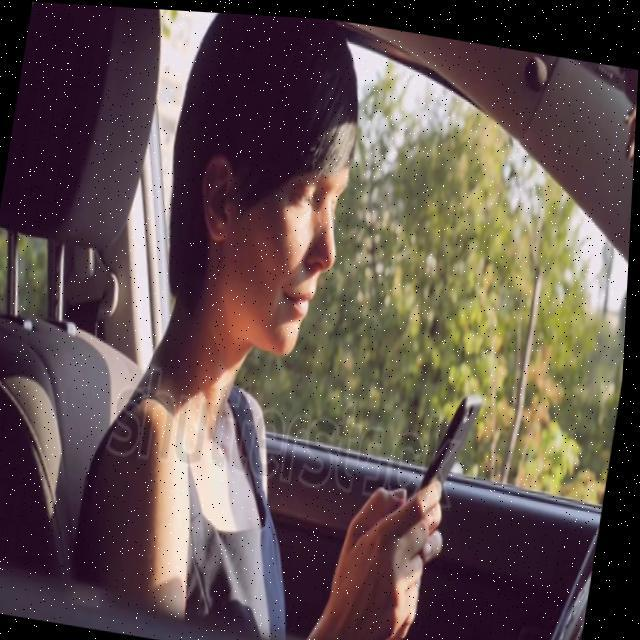PhoneCall: (418, 378, 488, 512)
